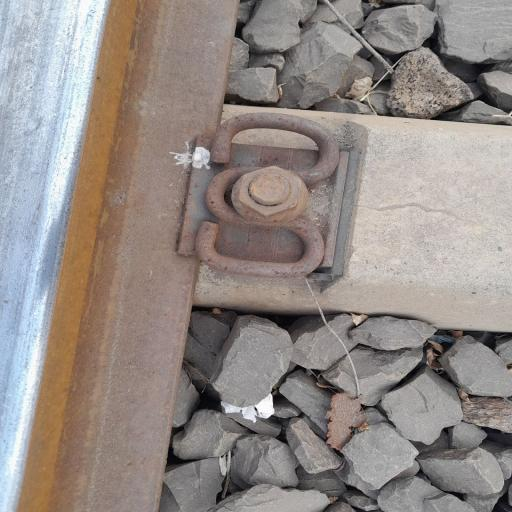bolt: (228, 154, 316, 222)
clip: (162, 96, 370, 280)
